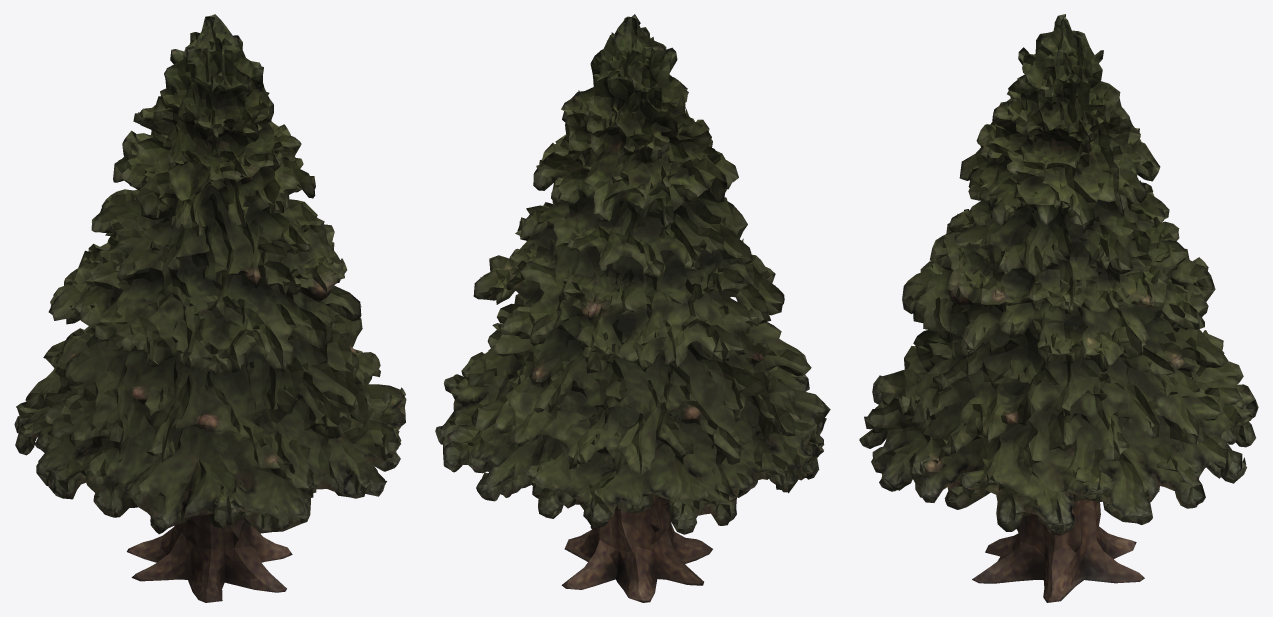
File: pine_tree.glb
The picture shows the model from 3 angles, left to right: view 1: azimuth 30°, elevation 25°; view 2: azimuth 150°, elevation 25°; view 3: azimuth 270°, elevation 25°; orthographic projection.
Parts seen in each view (by area): view 1: world; view 2: world; view 3: world.
Part boxes in pixels (left/top/right/bottom): world: left=14, top=14, right=406, bottom=602; world: left=435, top=14, right=830, bottom=602; world: left=859, top=14, right=1258, bottom=602.
Size of the model in its own units: 0.4636 by 0.6995 by 0.4584.
Materials: 1 (1 with a texture image).
